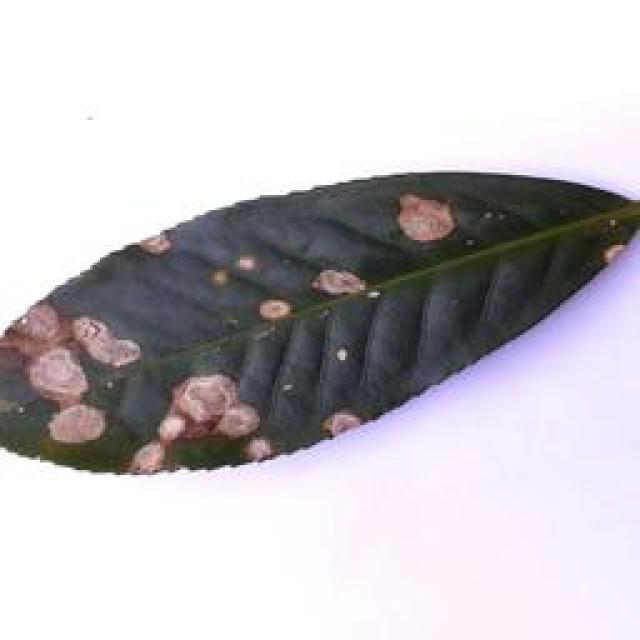Gray Blight: (0, 166, 640, 478)
